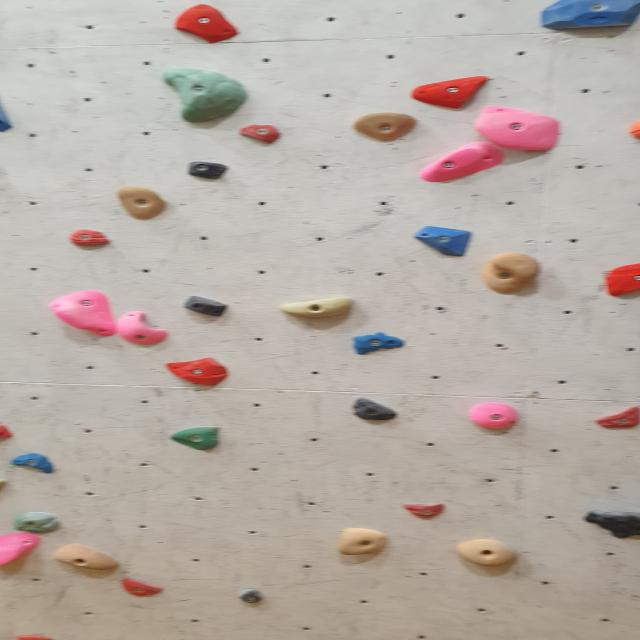Crimp: (538, 0, 639, 37), (176, 3, 240, 43), (411, 78, 489, 109), (161, 357, 234, 390), (592, 405, 640, 431), (237, 123, 284, 145), (351, 398, 397, 420), (400, 500, 450, 520), (608, 266, 640, 297)
Jug: (474, 107, 563, 154), (350, 111, 422, 145), (484, 252, 543, 292), (114, 185, 170, 222), (456, 539, 517, 568), (583, 508, 640, 539), (117, 312, 166, 348), (335, 525, 387, 557)
Pinch: (461, 400, 528, 434), (186, 158, 233, 182), (180, 292, 227, 316)
Pocket: (275, 294, 364, 320)
Sloper: (156, 65, 255, 124), (426, 143, 506, 185), (51, 290, 116, 334), (412, 227, 472, 257), (169, 424, 225, 451), (348, 332, 408, 354)
